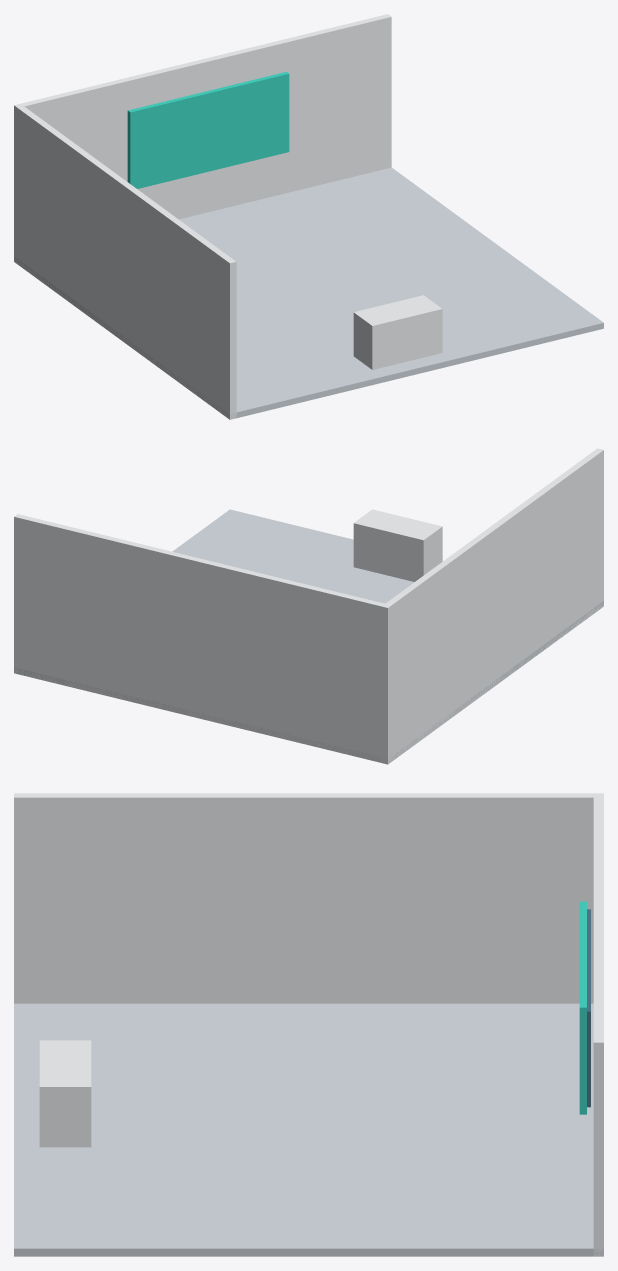
3 views of the same model, one above another, from view 1: azimuth 30°, elevation 25°; view 2: azimuth 150°, elevation 25°; view 3: azimuth 270°, elevation 25° (orthographic). The views are drawn at different scales.
Parts seen in each view (by area): view 1: Exhibition Booth Concept; view 2: Exhibition Booth Concept; view 3: Exhibition Booth Concept.
Part boxes in pixels (x1,y1,x2,y2): Exhibition Booth Concept: (14,14,603,419); Exhibition Booth Concept: (14,448,603,764); Exhibition Booth Concept: (14,793,603,1256).
Size of the model in its own units: 8 by 3.2 by 8.
